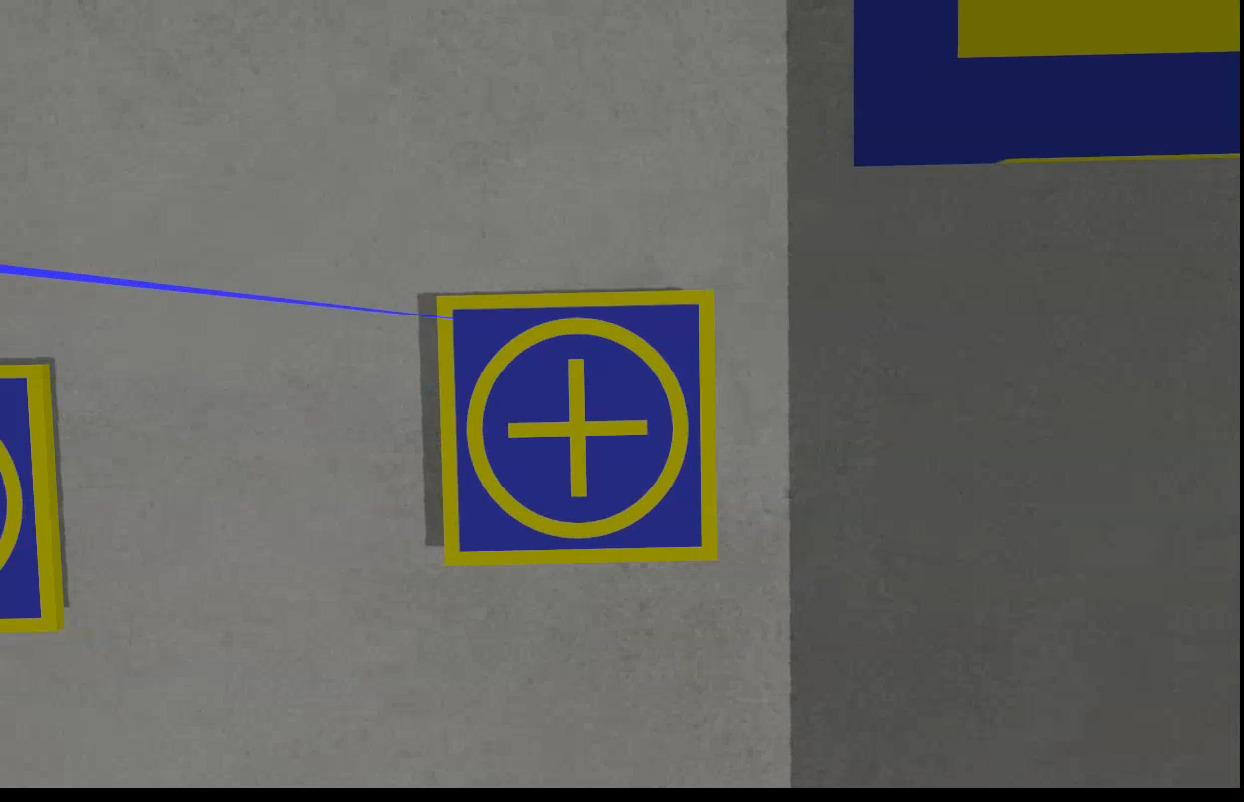large_base: (851, 1, 1242, 161)
small_base: (432, 286, 724, 572), (1, 359, 66, 644)
